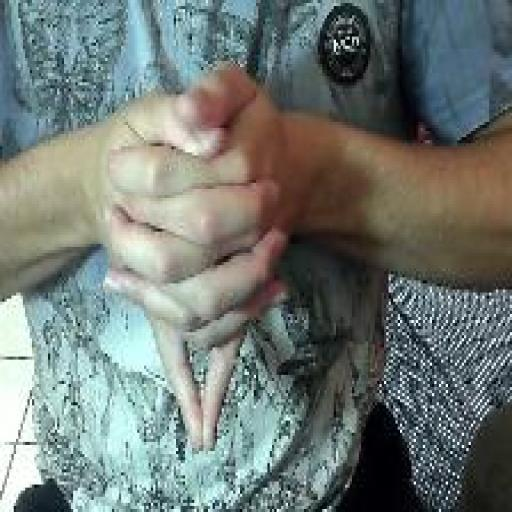Tatsu -dragon-: (98, 50, 297, 465)
